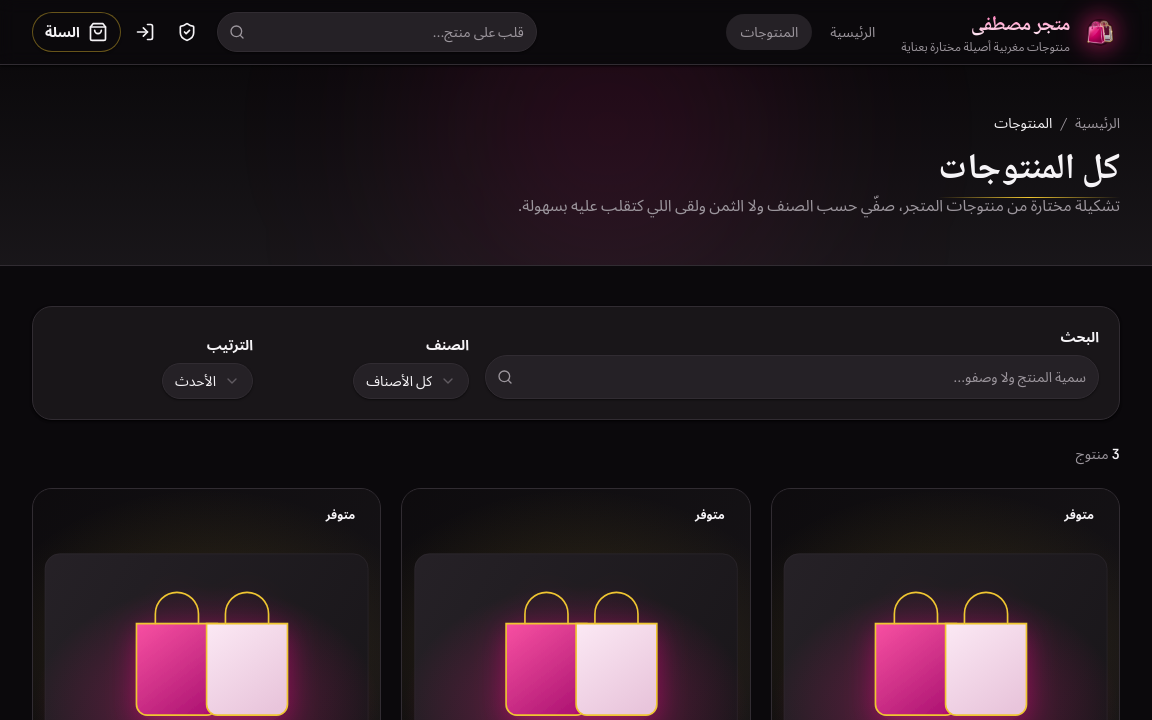
Scenario: CatalogPage › shows the result count for the active filter
Click the dropdown named "الصنف" at point(411, 381), box [353, 363, 469, 399]
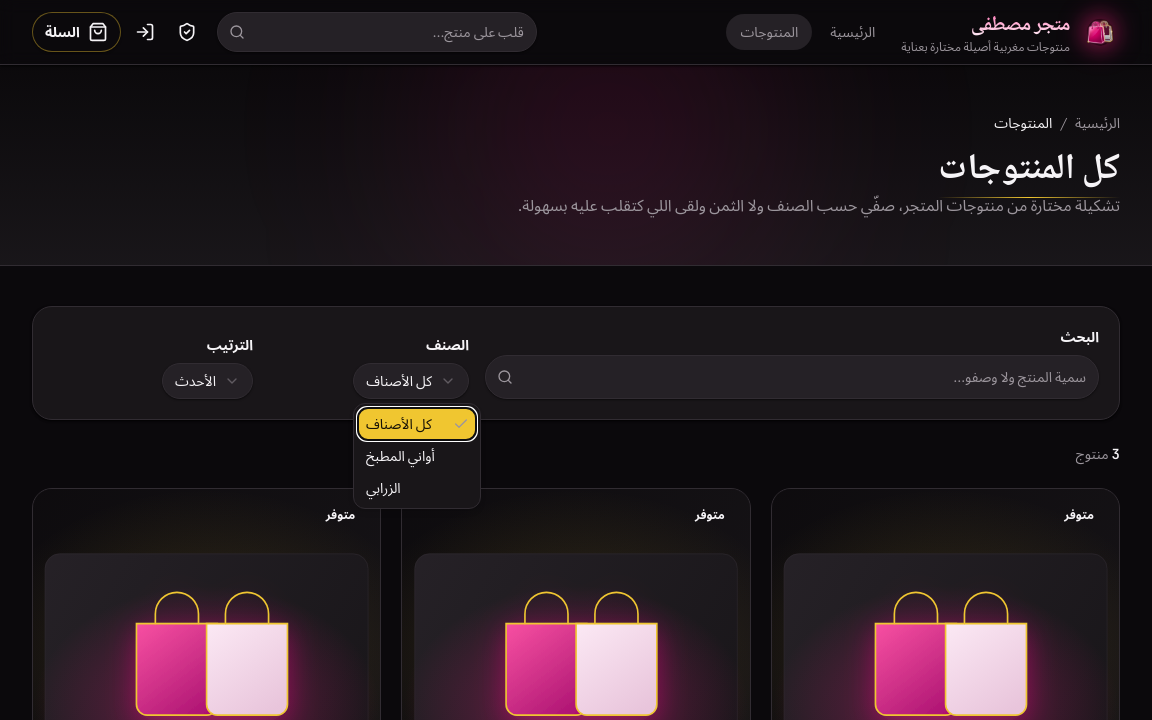
Click the option "أواني المطبخ" at point(400, 456), box [366, 447, 435, 464]
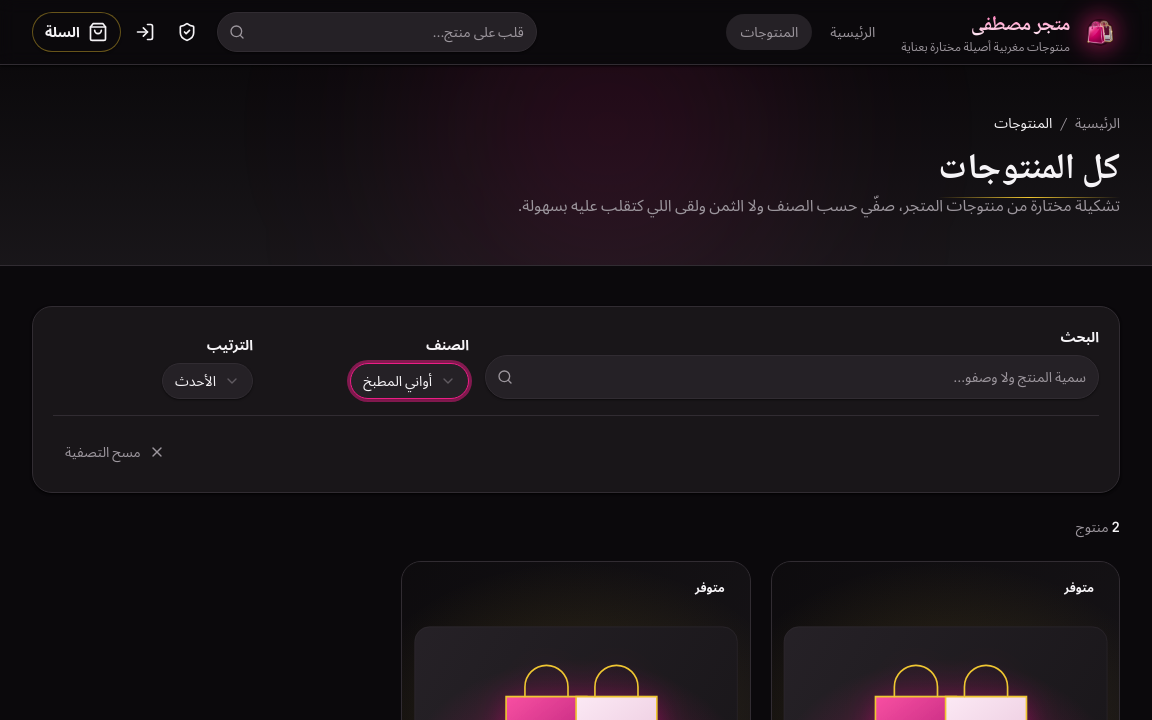
Result: the element showing "2 منتوج" is shown at [1076, 517, 1120, 537]
